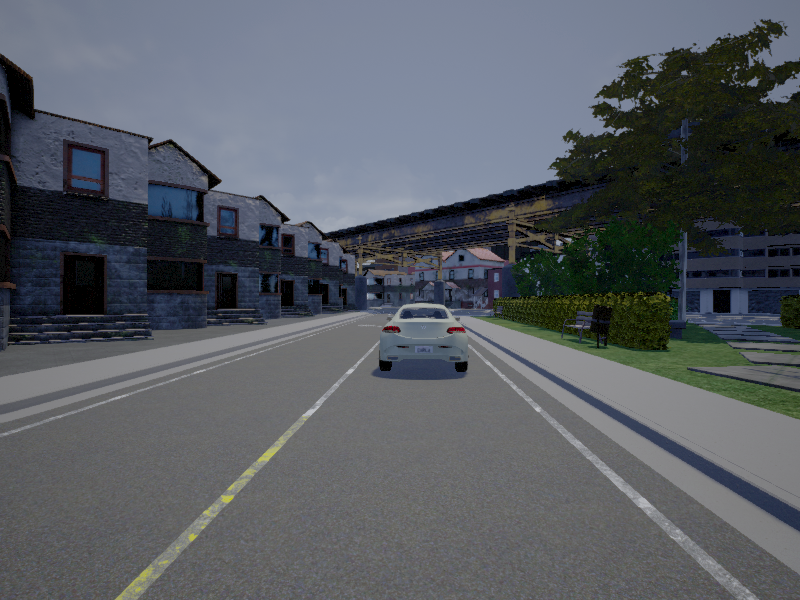Benign: (380, 303, 469, 373)
